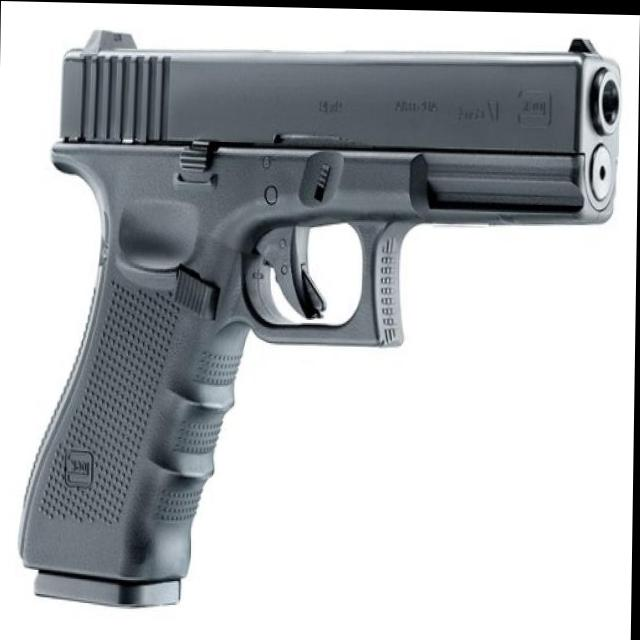handgun: (21, 26, 618, 623)
